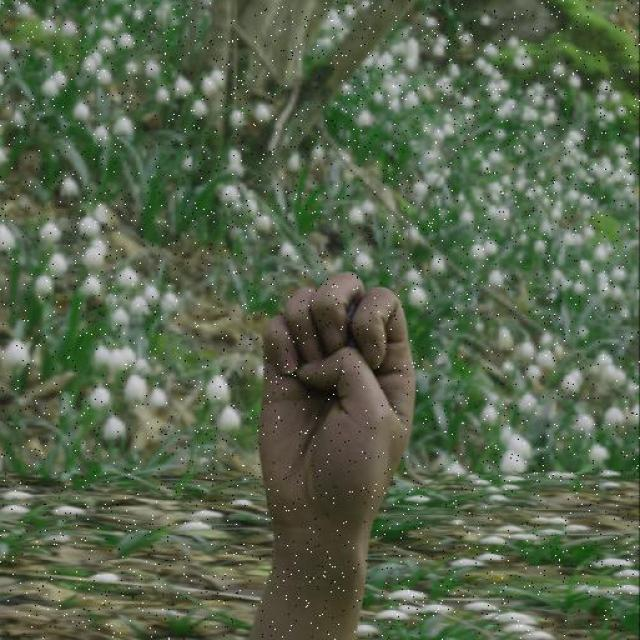E: (254, 269, 418, 543)
